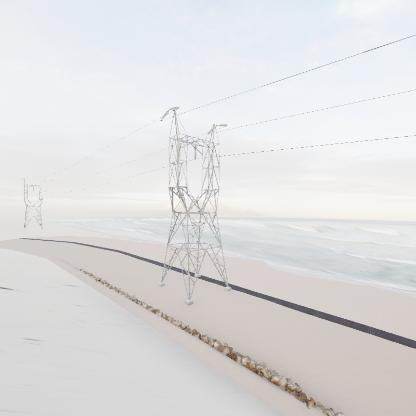tower: (157, 107, 233, 308), (19, 181, 46, 232)
